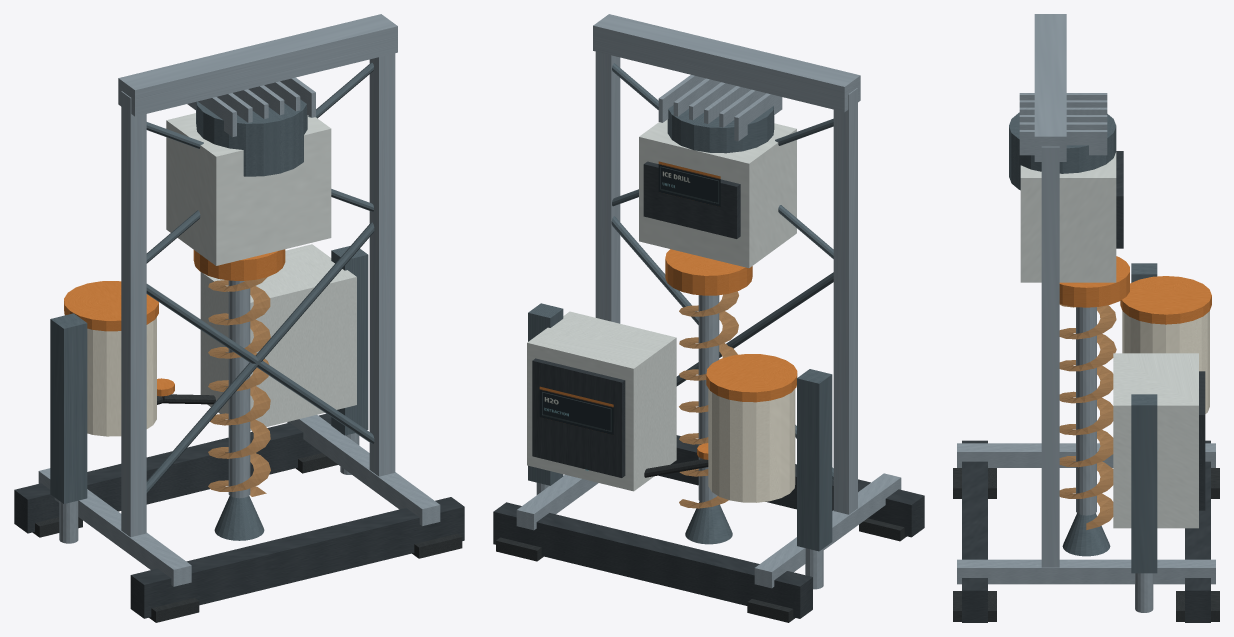
The model's file is ice_water_drill.glb.
3 renders of one model, left to right at view 1: azimuth 30°, elevation 25°; view 2: azimuth 150°, elevation 25°; view 3: azimuth 270°, elevation 25°, orthographic. The views are drawn at different scales.
Visible parts, largest first — view 1: tower_posts_steel, base_skids_graphite, drill_drive_ceramic, pump_module_ceramic, tower_crossbars_steel, stabiliser_cylinders_metal_dark, frame_beams_steel, tower_braces_metal_dark, drill_auger_copper, drill_drive_motor_metal_dark, collection_tank_chalk, drill_core_steel (+6 smaller); view 2: tower_posts_steel, base_skids_graphite, pump_module_ceramic, drill_drive_ceramic, tower_crossbars_steel, collection_tank_chalk, stabiliser_cylinders_metal_dark, pump_gasket_graphite, frame_beams_steel, drive_cooling_fins_steel, tower_braces_metal_dark, drill_drive_trim_graphite (+11 smaller); view 3: pump_module_ceramic, drill_drive_ceramic, frame_beams_steel, tower_posts_steel, base_skids_graphite, stabiliser_cylinders_metal_dark, drill_auger_copper, tower_crossbars_steel, collection_top_orange, drill_core_steel, drive_cooling_fins_steel, collection_tank_chalk (+7 smaller).
Part boxes in pixels (x1=…): tower_posts_steel: x1=121, y1=53, x2=395, y2=537; base_skids_graphite: x1=14, y1=413, x2=464, y2=618; drill_drive_ceramic: x1=166, y1=113, x2=331, y2=265; pump_module_ceramic: x1=200, y1=244, x2=356, y2=430; tower_crossbars_steel: x1=118, y1=14, x2=397, y2=116; stabiliser_cylinders_metal_dark: x1=50, y1=246, x2=368, y2=503; frame_beams_steel: x1=38, y1=415, x2=440, y2=586; tower_braces_metal_dark: x1=146, y1=62, x2=374, y2=493; drill_auger_copper: x1=208, y1=277, x2=270, y2=496; drill_drive_motor_metal_dark: x1=196, y1=99, x2=307, y2=176; collection_tank_chalk: x1=87, y1=317, x2=156, y2=436; drill_core_steel: x1=228, y1=280, x2=250, y2=498; tower_posts_steel: x1=595, y1=51, x2=857, y2=514; base_skids_graphite: x1=493, y1=435, x2=924, y2=618; pump_module_ceramic: x1=527, y1=311, x2=676, y2=491; drill_drive_ceramic: x1=639, y1=119, x2=796, y2=268; tower_crossbars_steel: x1=593, y1=14, x2=860, y2=112; collection_tank_chalk: x1=708, y1=388, x2=795, y2=502; stabiliser_cylinders_metal_dark: x1=528, y1=303, x2=832, y2=551; pump_gasket_graphite: x1=532, y1=358, x2=625, y2=477; frame_beams_steel: x1=516, y1=473, x2=901, y2=588; drive_cooling_fins_steel: x1=658, y1=75, x2=782, y2=141; tower_braces_metal_dark: x1=611, y1=63, x2=833, y2=480; drill_drive_trim_graphite: x1=643, y1=161, x2=740, y2=238; pump_module_ceramic: x1=1113, y1=353, x2=1198, y2=528; drill_drive_ceramic: x1=1020, y1=124, x2=1116, y2=282; frame_beams_steel: x1=957, y1=443, x2=1215, y2=584; tower_posts_steel: x1=1041, y1=146, x2=1059, y2=567; base_skids_graphite: x1=962, y1=440, x2=1210, y2=622; stabiliser_cylinders_metal_dark: x1=1131, y1=263, x2=1157, y2=573; drill_auger_copper: x1=1059, y1=304, x2=1116, y2=529; tower_crossbars_steel: x1=1034, y1=14, x2=1066, y2=161; collection_top_orange: x1=1120, y1=276, x2=1211, y2=324; drill_core_steel: x1=1076, y1=307, x2=1096, y2=515; drive_cooling_fins_steel: x1=1019, y1=93, x2=1107, y2=155; collection_tank_chalk: x1=1122, y1=311, x2=1209, y2=413.
Size of the model in its own units: 1.78 by 2.63 by 1.34.
Materials: 11 (11 with a texture image).
